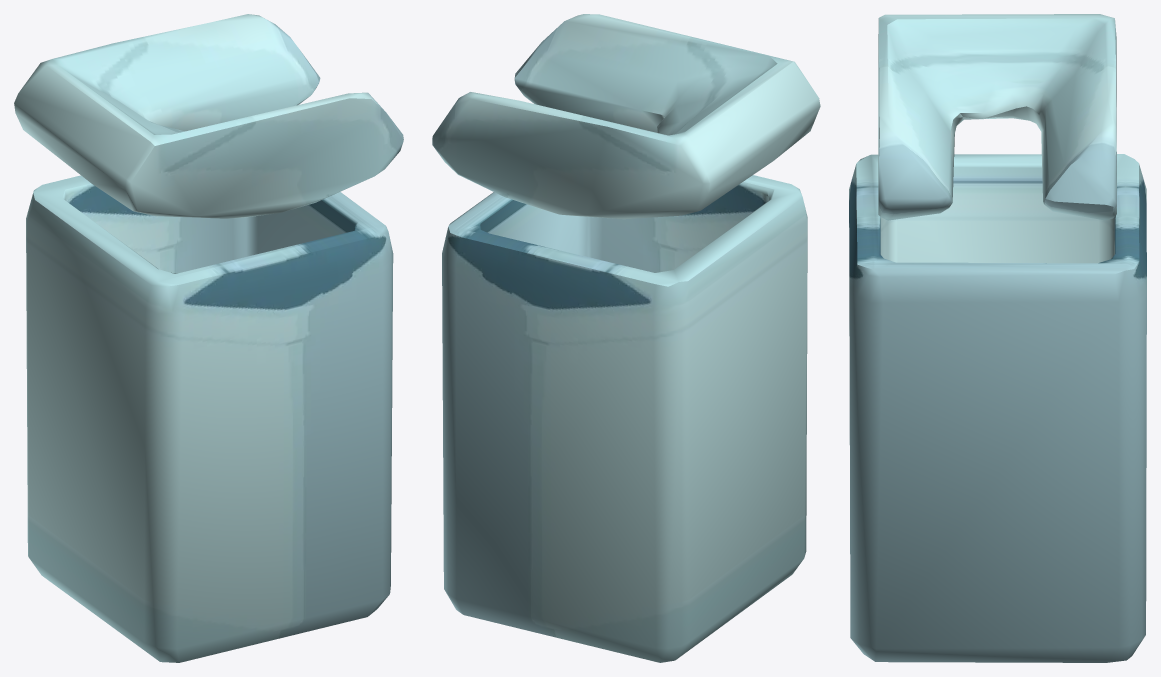
3 views of the same model, side by side, from view 1: azimuth 30°, elevation 25°; view 2: azimuth 150°, elevation 25°; view 3: azimuth 270°, elevation 25° (orthographic). The views are drawn at different scales.
Visible parts, largest first — view 1: Decor_tray_bin_station; view 2: Decor_tray_bin_station; view 3: Decor_tray_bin_station.
Boxes of the visible parts, x1=… form: Decor_tray_bin_station: x1=14, y1=14, x2=403, y2=662; Decor_tray_bin_station: x1=432, y1=14, x2=820, y2=662; Decor_tray_bin_station: x1=849, y1=14, x2=1146, y2=662.
Bounding box in the file's own units: 0.7349 × 1.3 × 0.6531.
1 material, 1 textured.
